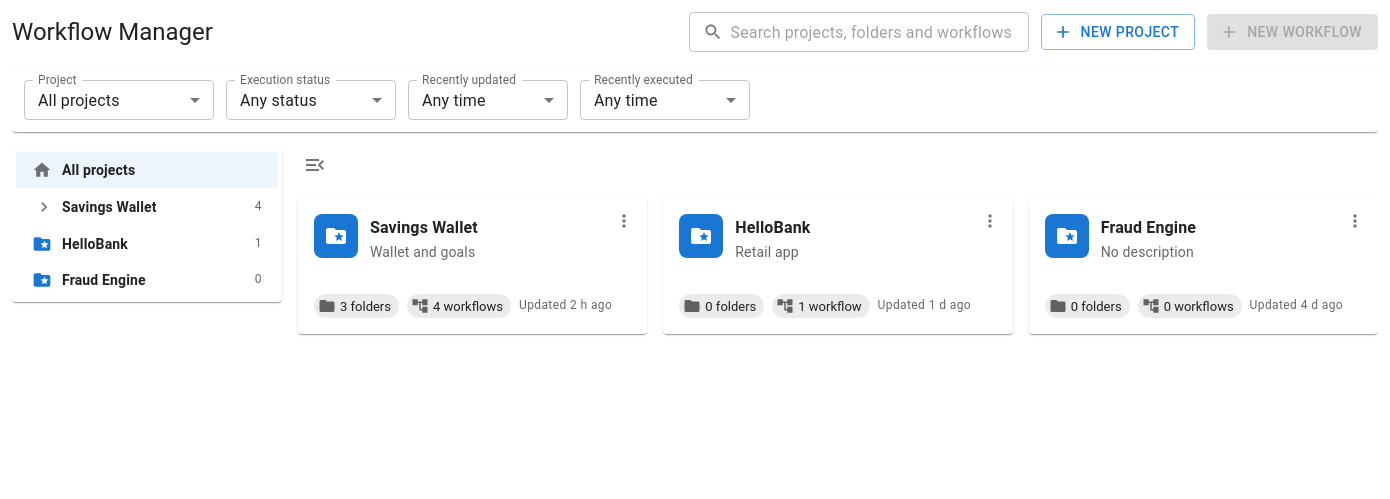
Scenario: Projects level › keeps New workflow disabled until a project is open, then enables it
This screenshot has width=1390, height=499.
Expected: the button "New workflow" is disabled, [1207, 14, 1378, 50]
Click the button with aria-label "open project Savings Wallet" at (336, 236), box [298, 198, 647, 334]
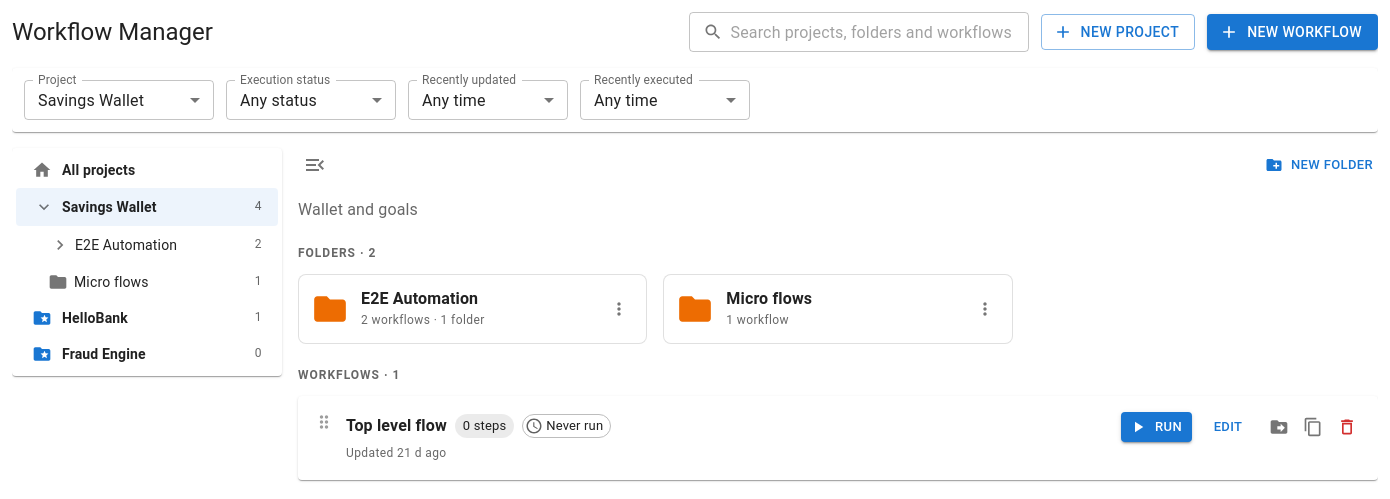
Result: the button "New workflow" is enabled at [1207, 14, 1378, 50]
